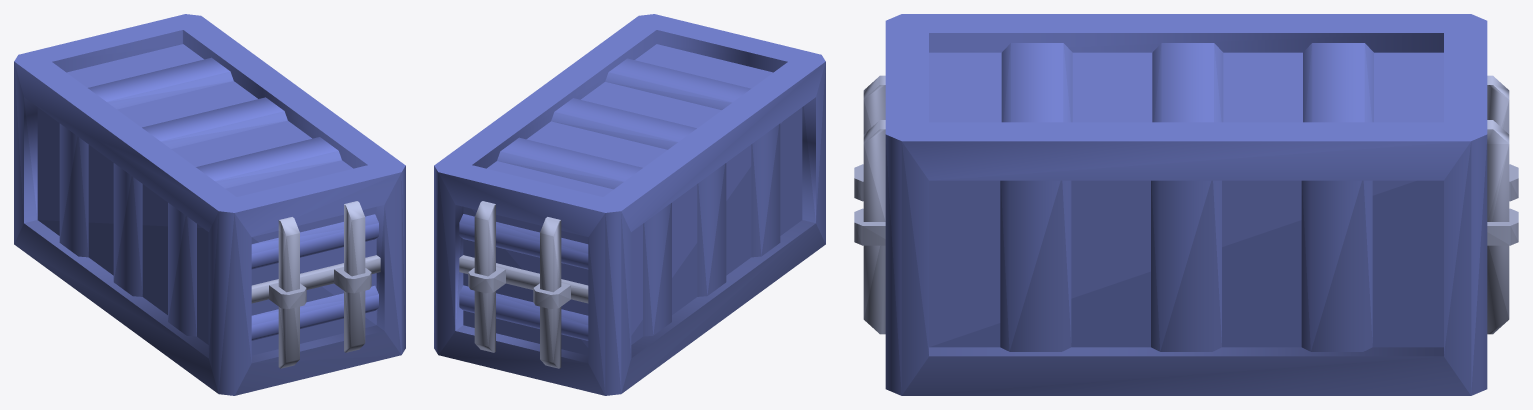
File: shipping-container-b.obj
The picture shows the model from 3 angles, left to right: view 1: azimuth 30°, elevation 25°; view 2: azimuth 150°, elevation 25°; view 3: azimuth 270°, elevation 25°; orthographic projection. The views are drawn at different scales.
Bounding box in the file's own units: 0.3726 × 0.3481 × 0.8226.
